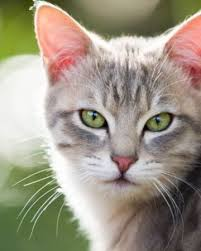Gato: (33, 9, 198, 196)
